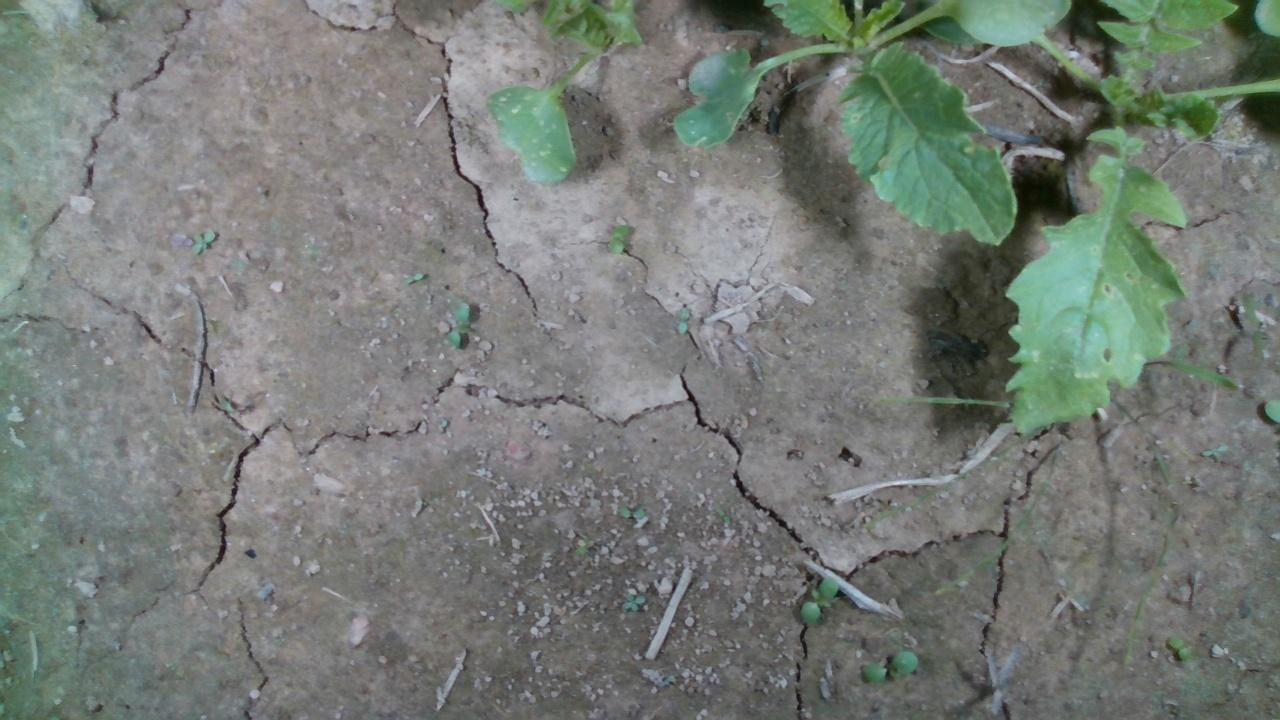weed: (797, 575, 837, 624), (860, 650, 919, 682), (445, 302, 468, 351), (604, 222, 629, 254), (190, 227, 215, 255), (1166, 633, 1190, 661), (404, 271, 422, 284)
